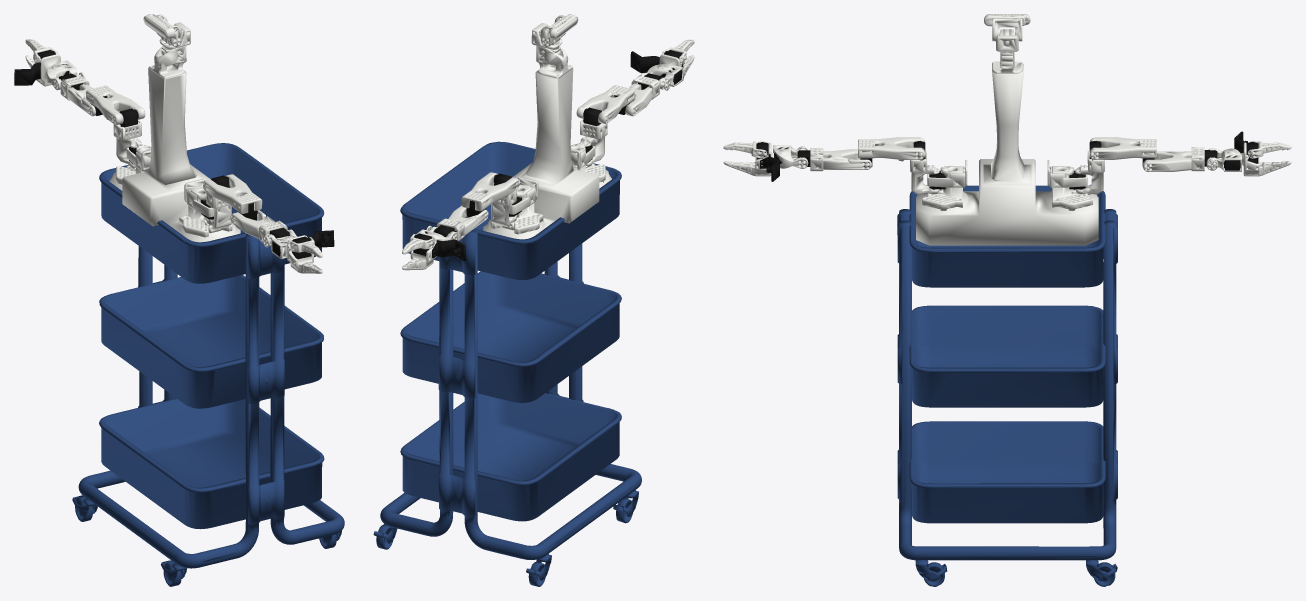
The model's file is xle.glb.
3 renders of one model, left to right at view 1: azimuth 30°, elevation 25°; view 2: azimuth 150°, elevation 25°; view 3: azimuth 270°, elevation 25°, orthographic. The views are drawn at different scales.
Parts seen in each view (by area): view 1: p000, p033, p003, p007, p022, p009, p020, p024, p018, p001, p005, p002 (+5 smaller); view 2: p000, p033, p018, p022, p007, p009, p024, p002, p005, p001, p003, p020 (+3 smaller); view 3: p000, p033, p018, p003, p007, p022, p024, p009, p001, p020, p005.
Boxes of the visible parts, bbox=[...] form: p000: bbox=[78, 143, 344, 568]; p033: bbox=[109, 45, 240, 242]; p003: bbox=[179, 179, 232, 237]; p007: bbox=[203, 174, 262, 213]; p022: bbox=[86, 85, 145, 124]; p009: bbox=[230, 210, 287, 242]; p020: bbox=[113, 120, 141, 168]; p024: bbox=[60, 76, 95, 116]; p018: bbox=[116, 144, 150, 184]; p001: bbox=[72, 495, 341, 581]; p005: bbox=[206, 192, 231, 230]; p002: bbox=[75, 496, 336, 586]; p000: bbox=[380, 141, 641, 559]; p033: bbox=[483, 45, 611, 239]; p018: bbox=[491, 177, 543, 234]; p022: bbox=[461, 172, 519, 211]; p007: bbox=[576, 85, 634, 123]; p009: bbox=[625, 75, 659, 116]; p024: bbox=[436, 205, 488, 241]; p002: bbox=[376, 498, 632, 586]; p005: bbox=[580, 119, 607, 166]; p001: bbox=[373, 490, 638, 580]; p003: bbox=[570, 142, 605, 182]; p020: bbox=[491, 185, 516, 227]; p000: bbox=[897, 185, 1117, 560]; p033: bbox=[916, 51, 1098, 245]; p018: bbox=[1047, 160, 1092, 210]; p003: bbox=[922, 160, 967, 210]; p007: bbox=[858, 137, 925, 161]; p022: bbox=[1089, 137, 1156, 159]; p024: bbox=[1143, 147, 1204, 171]; p009: bbox=[810, 148, 871, 171]; p001: bbox=[915, 560, 1117, 581]; p020: bbox=[1075, 151, 1104, 194]; p005: bbox=[910, 151, 939, 194].
Size of the model in its own units: 0.2261 by 0.6852 by 0.6924.
